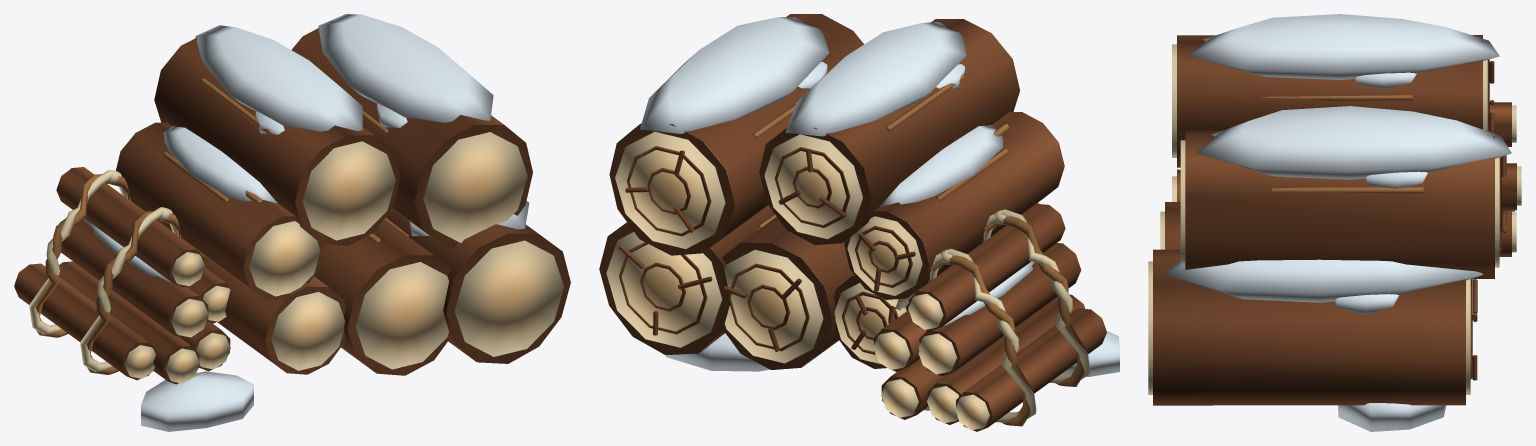
Rendered from wood_stack.glb.
The picture shows the model from 3 angles, left to right: view 1: azimuth 30°, elevation 25°; view 2: azimuth 150°, elevation 25°; view 3: azimuth 270°, elevation 25°; orthographic projection. The views are drawn at different scales.
Parts seen in each view (by area): view 1: wood_stack; view 2: wood_stack; view 3: wood_stack.
Part boxes in pixels (x1,y1,x2,y2): wood_stack: (14,14,570,431); wood_stack: (599,14,1119,431); wood_stack: (1148,14,1521,431).
Bounding box in the file's own units: 1.49 × 1.03 × 1.1.
